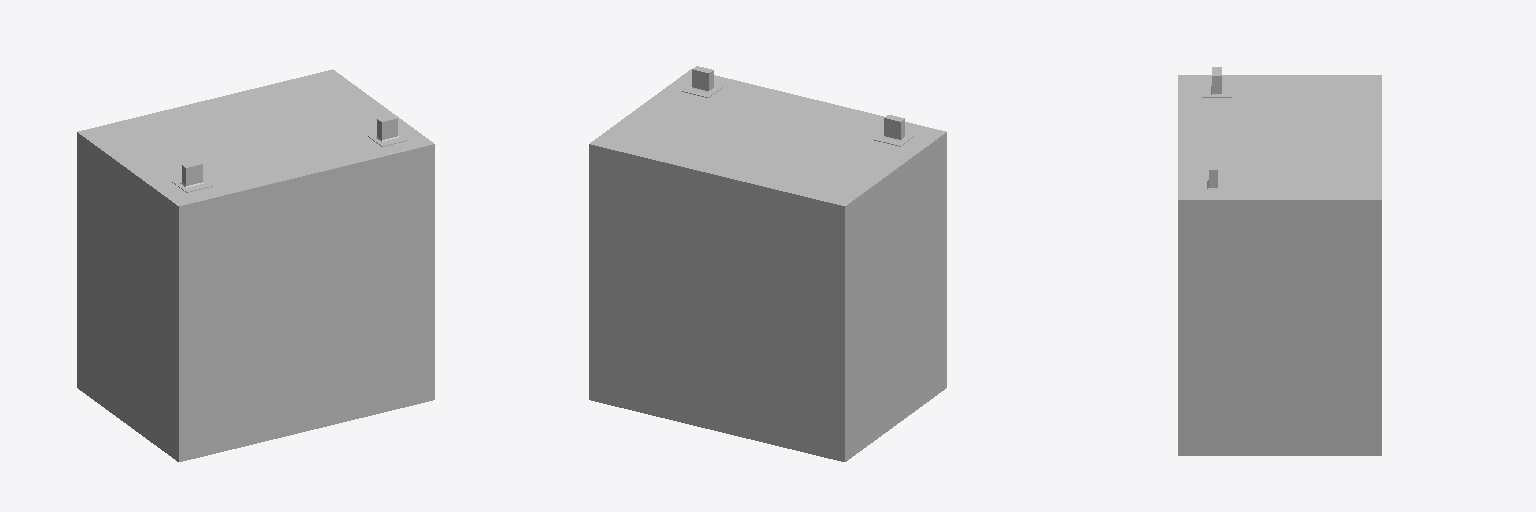
File: 12vBattery.obj
The picture shows the model from 3 angles: view 1: azimuth 30°, elevation 25°; view 2: azimuth 150°, elevation 25°; view 3: azimuth 270°, elevation 25°; orthographic projection.
Parts seen in each view (by area): view 1: Cube.025_Cube.011; view 2: Cube.025_Cube.011; view 3: Cube.025_Cube.011.
Boxes of the visible parts, box(x1,y1,x2,y2) form: Cube.025_Cube.011: box(77, 69, 434, 461); Cube.025_Cube.011: box(589, 66, 946, 461); Cube.025_Cube.011: box(1178, 67, 1381, 455).
Bounding box in the file's own units: 0.2482 × 0.2554 × 0.1712.